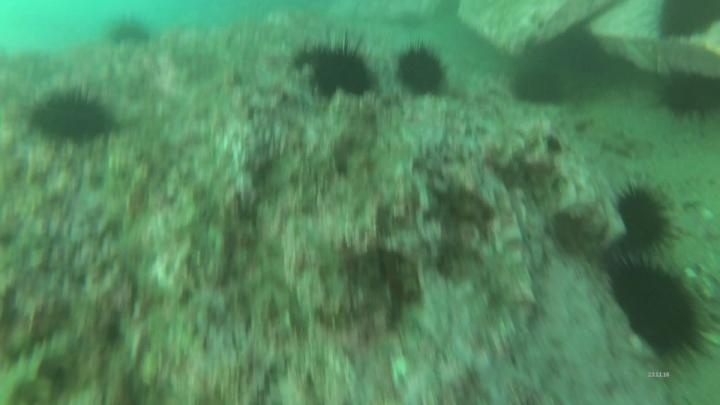echinus: (604, 253, 709, 365), (25, 83, 119, 152), (296, 34, 379, 103), (610, 179, 679, 257), (654, 65, 720, 125), (392, 40, 451, 101), (653, 1, 720, 44), (509, 62, 569, 109), (102, 13, 156, 50)
holothurian: (560, 110, 656, 163)
